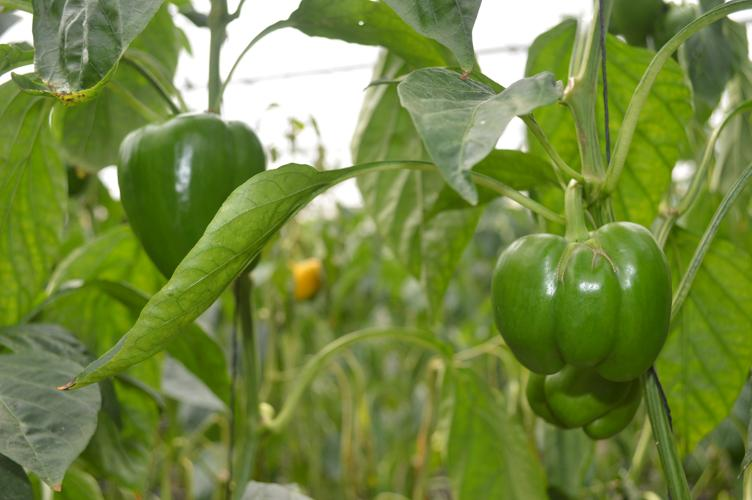BellPepper: (489, 224, 672, 383), (112, 113, 274, 284), (519, 365, 648, 444)
